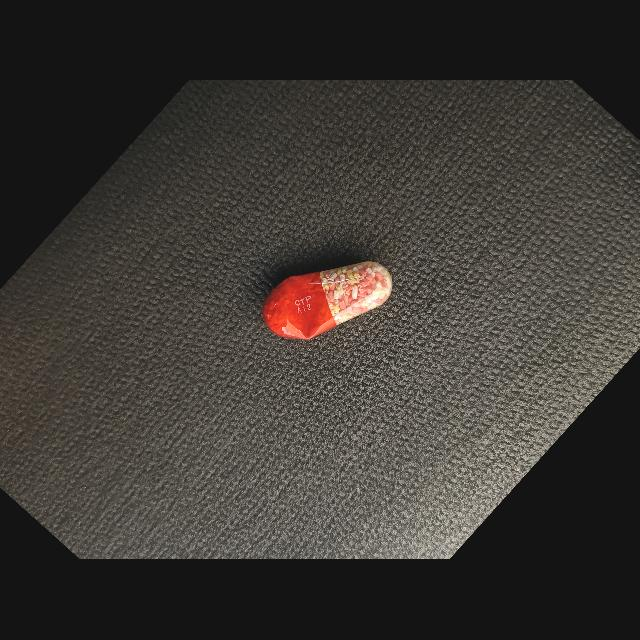Defective Capsule: (262, 262, 392, 340)
